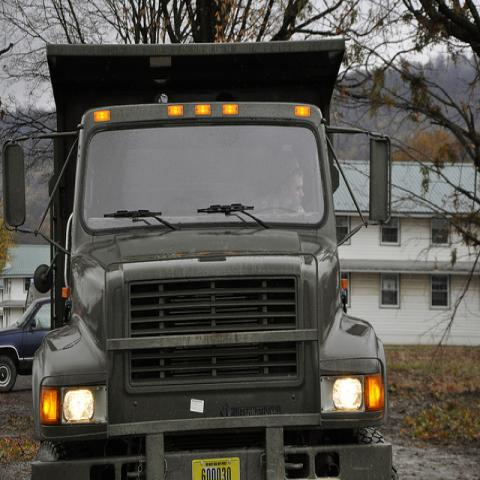car: (0, 296, 51, 394)
truck: (4, 38, 394, 478)
